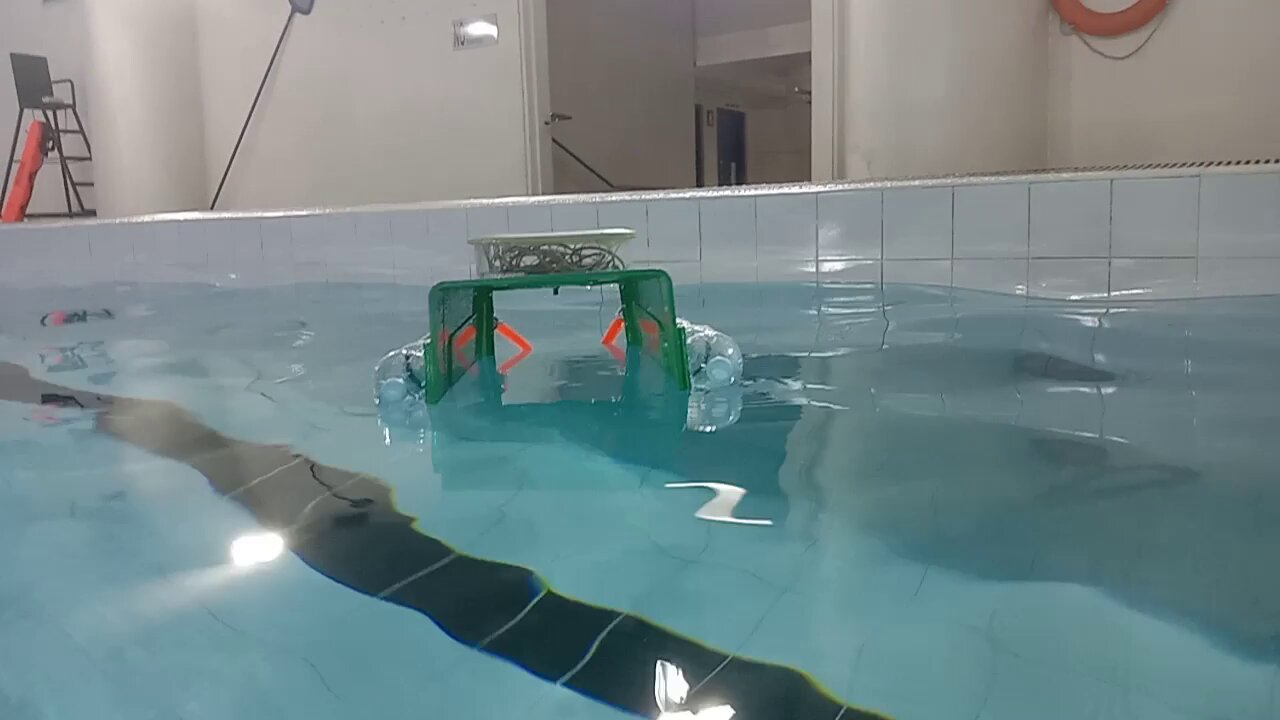drone: (371, 225, 744, 417)
